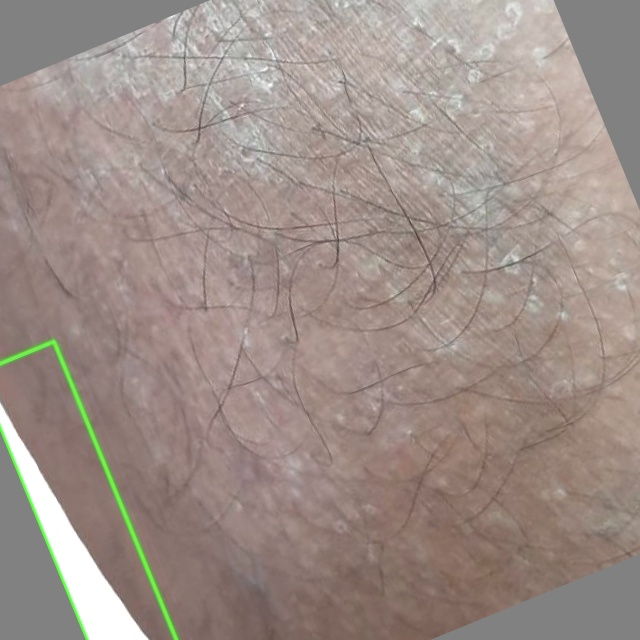Contact Dermatitis: (0, 341, 176, 639)
